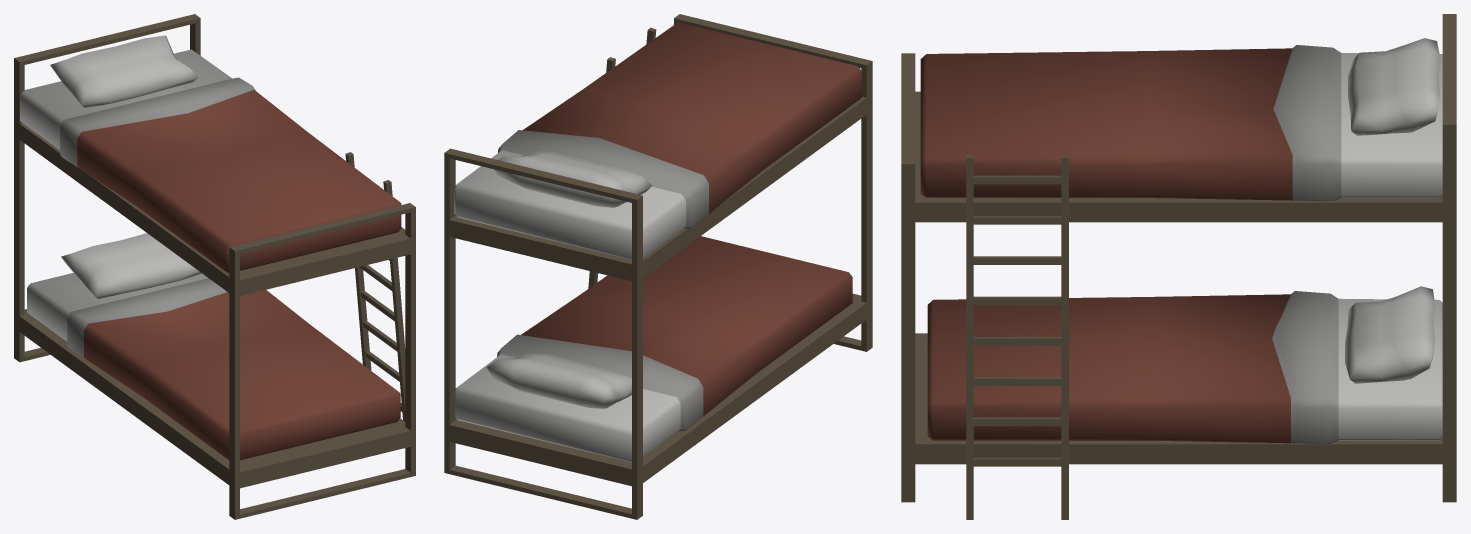
Rendered from Bed_Bunk.glb.
3 renders of one model, left to right at view 1: azimuth 30°, elevation 25°; view 2: azimuth 150°, elevation 25°; view 3: azimuth 270°, elevation 25°, orthographic. The views are drawn at different scales.
Parts seen in each view (by area): view 1: Bed_Bunk; view 2: Bed_Bunk; view 3: Bed_Bunk.
Part boxes in pixels (box(x1,y1,x2,y2)): Bed_Bunk: box(14, 14, 415, 519); Bed_Bunk: box(444, 14, 872, 519); Bed_Bunk: box(901, 14, 1456, 519).
Size of the model in its own units: 2.17 by 3.03 by 4.
